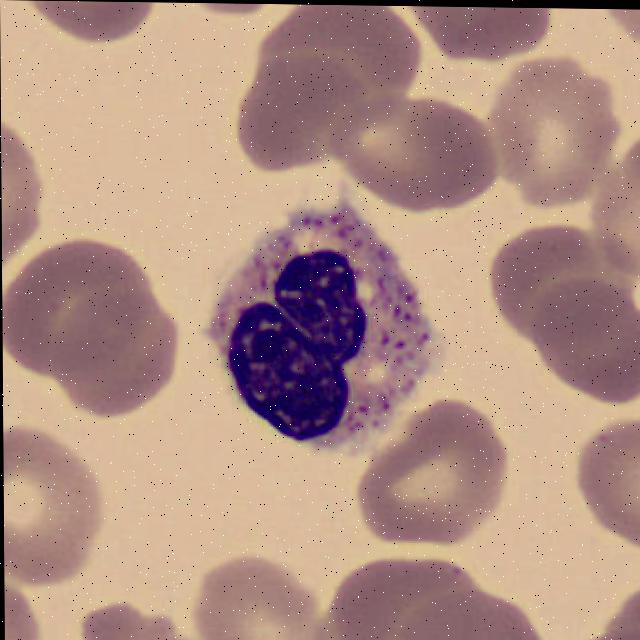neutrophil: (198, 194, 440, 460)
rbc: (348, 384, 518, 551), (314, 88, 504, 211), (2, 215, 148, 374), (494, 50, 620, 200), (484, 216, 633, 342), (259, 4, 421, 116), (56, 278, 185, 416), (3, 424, 105, 592), (313, 552, 493, 640), (230, 54, 367, 168), (527, 273, 640, 402), (190, 556, 323, 640), (575, 405, 640, 553), (413, 6, 560, 65), (390, 587, 550, 640), (34, 1, 172, 54), (1, 114, 51, 260), (71, 582, 194, 640), (596, 135, 640, 269)
